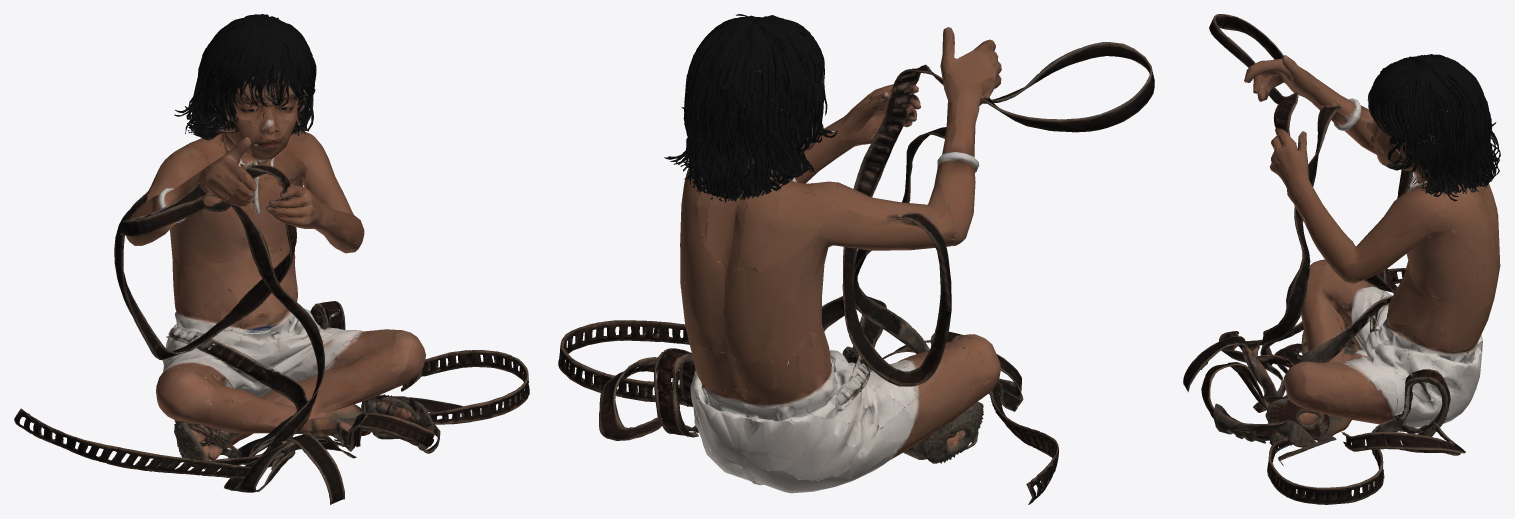
The model's file is boy.glb.
3 renders of one model, left to right at view 1: azimuth 30°, elevation 25°; view 2: azimuth 150°, elevation 25°; view 3: azimuth 270°, elevation 25°, orthographic. The views are drawn at different scales.
Visible parts, largest first — view 1: Mesh_0; view 2: Mesh_0; view 3: Mesh_0.
Boxes of the visible parts, box(x1,y1,x2,y2) form: Mesh_0: box(14, 14, 529, 504); Mesh_0: box(558, 14, 1154, 504); Mesh_0: box(1183, 14, 1500, 504).
Bounding box in the file's own units: 1.9 × 1.54 × 1.23.
1 material, 1 textured.
